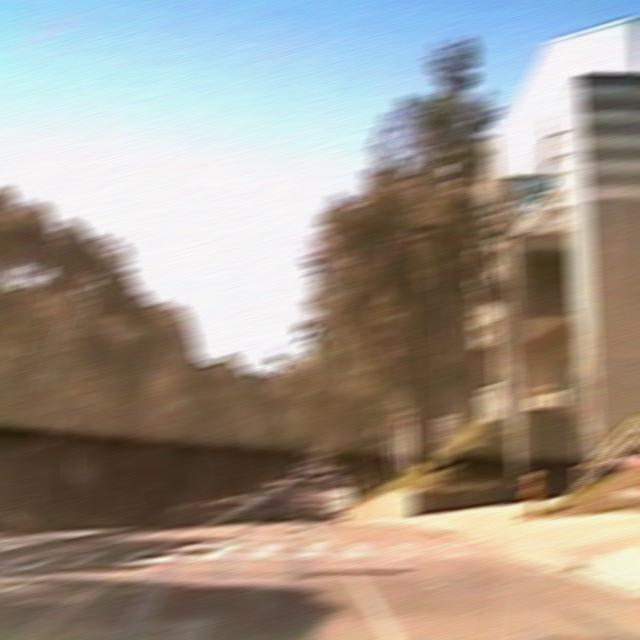speedLimit35: (434, 414, 457, 439)
